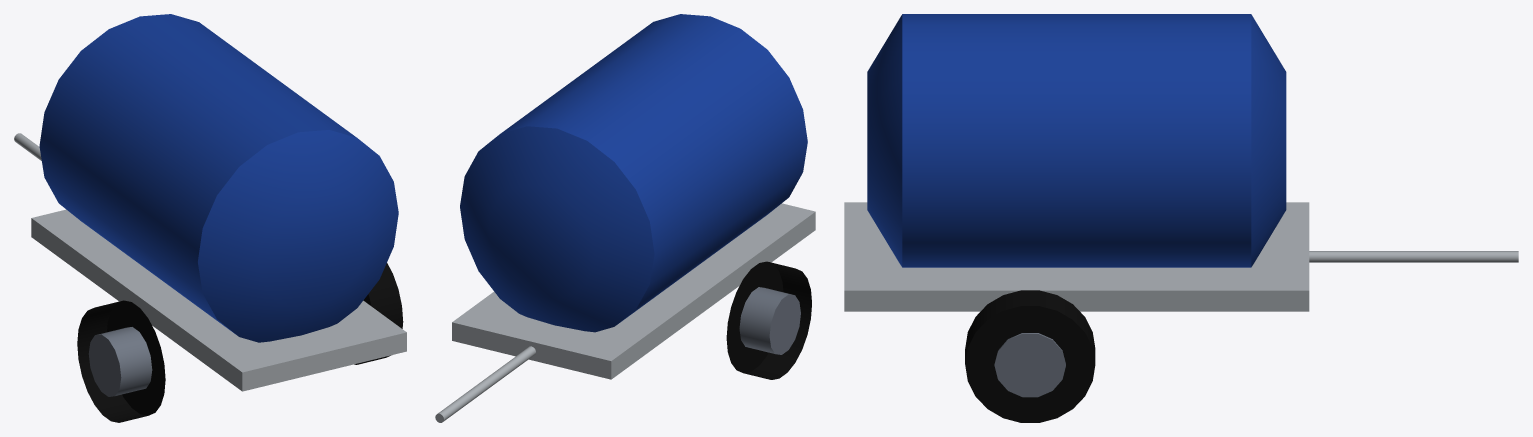
File: plant.small.water_bowser.glb
3 renders of one model, left to right at view 1: azimuth 30°, elevation 25°; view 2: azimuth 150°, elevation 25°; view 3: azimuth 270°, elevation 25°, orthographic. The views are drawn at different scales.
Parts seen in each view (by area): view 1: main__plastic_blue, main__steel_galvanised, main__rubber, main__steel_painted; view 2: main__plastic_blue, main__steel_galvanised, main__rubber, main__steel_painted; view 3: main__plastic_blue, main__steel_galvanised, main__rubber, main__steel_painted.
Part boxes in pixels (<box>): main__plastic_blue: <box>39,14,398,342</box>; main__steel_galvanised: <box>14,133,406,391</box>; main__rubber: <box>77,263,403,422</box>; main__steel_painted: <box>88,327,152,396</box>; main__plastic_blue: <box>460,14,807,332</box>; main__steel_galvanised: <box>435,203,815,422</box>; main__rubber: <box>726,261,811,379</box>; main__steel_painted: <box>739,287,800,354</box>; main__plastic_blue: <box>867,14,1286,267</box>; main__steel_galvanised: <box>844,202,1518,311</box>; main__rubber: <box>965,290,1095,422</box>; main__steel_painted: <box>994,333,1065,397</box>.
Bounding box in the file's own units: 1.48 × 1.55 × 2.9.
